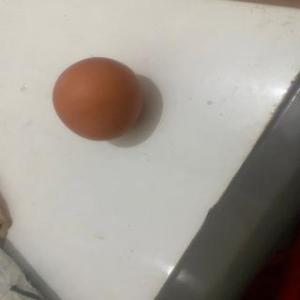egg: (50, 56, 146, 142)
